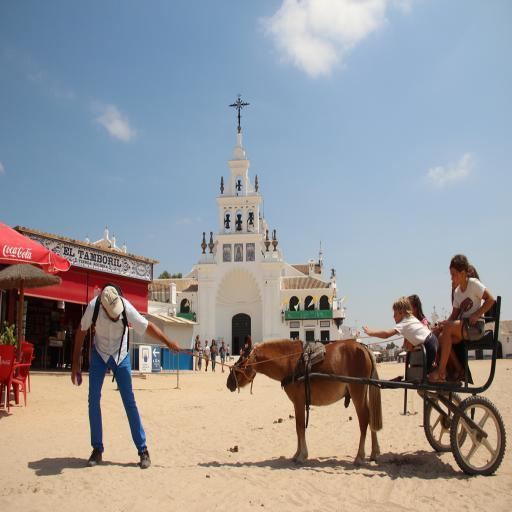horse: (226, 336, 386, 464)
